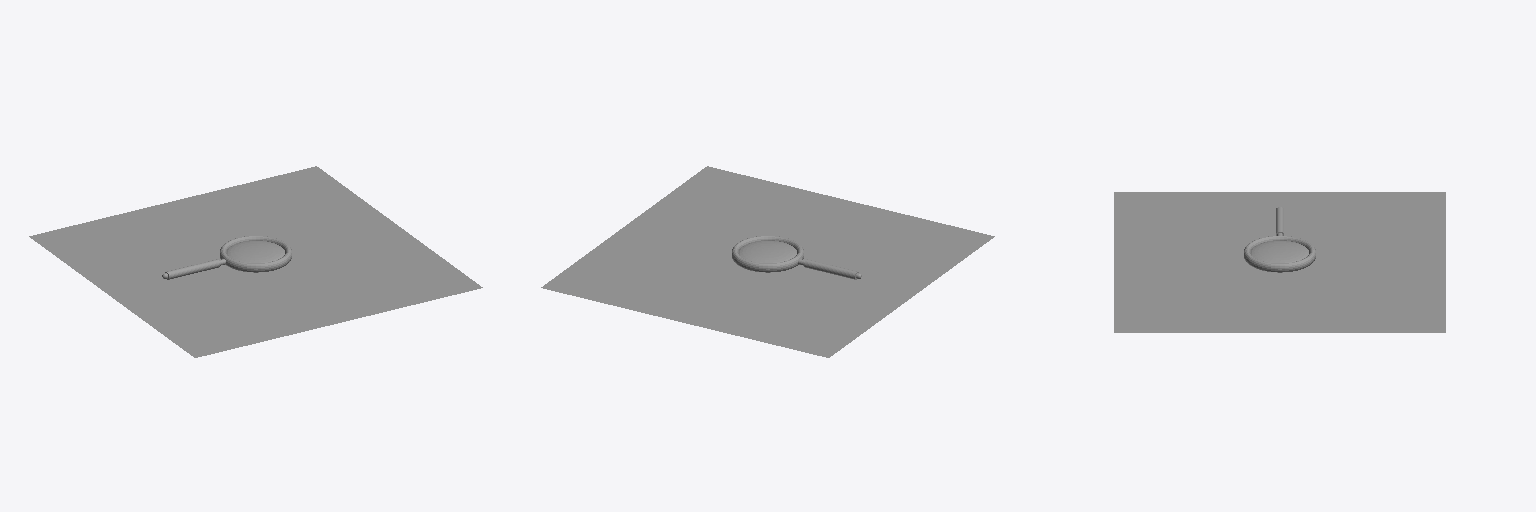
Rendered from lupa.obj.
3 views of the same model, side by side, from view 1: azimuth 30°, elevation 25°; view 2: azimuth 150°, elevation 25°; view 3: azimuth 270°, elevation 25° (orthographic).
Visible parts, largest first — view 1: Plane, Redondel__Torus, LENTE_Sphere; view 2: Plane, Redondel__Torus, LENTE_Sphere; view 3: Plane, Redondel__Torus, LENTE_Sphere.
Boxes of the visible parts, x1,y1,x2,y2 form: Plane: [29, 166, 482, 357]; Redondel__Torus: [220, 236, 291, 272]; LENTE_Sphere: [227, 241, 284, 262]; Plane: [541, 166, 994, 357]; Redondel__Torus: [732, 236, 803, 272]; LENTE_Sphere: [739, 241, 796, 262]; Plane: [1114, 192, 1445, 332]; Redondel__Torus: [1244, 236, 1315, 272]; LENTE_Sphere: [1251, 241, 1308, 262].
Bounding box in the file's own units: 28.76 × 1.18 × 28.76.